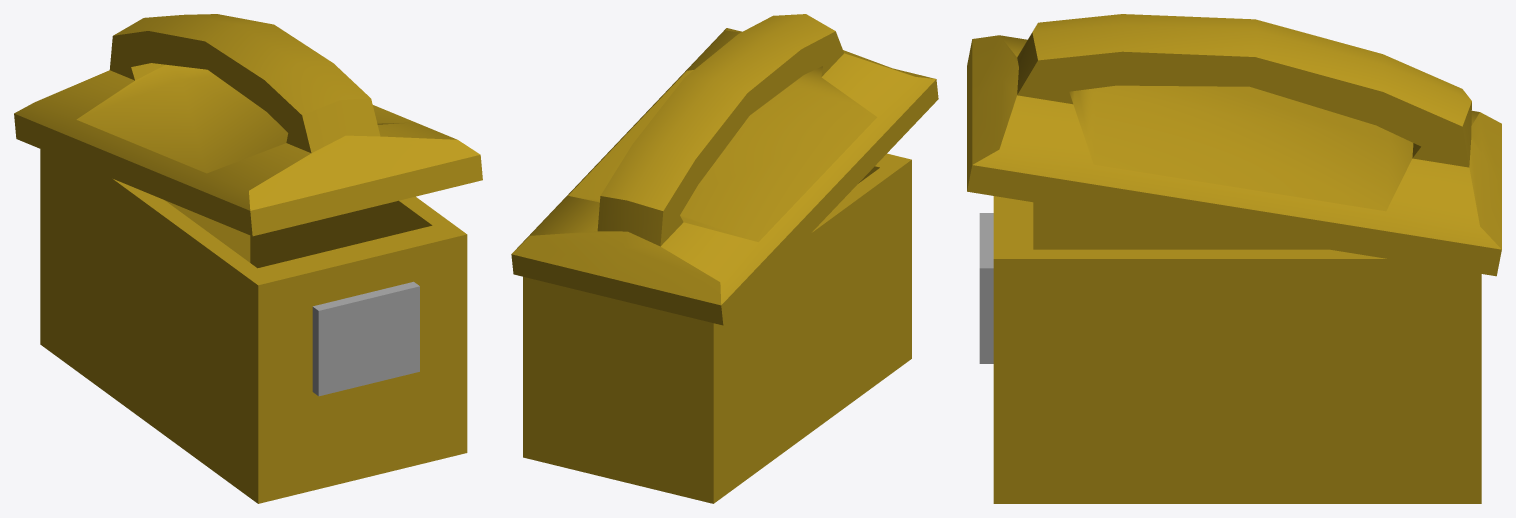
Rendered from SM_Ammo_Pack_Open.fbx.
The picture shows the model from 3 angles, left to right: view 1: azimuth 30°, elevation 25°; view 2: azimuth 150°, elevation 25°; view 3: azimuth 270°, elevation 25°; orthographic projection. The views are drawn at different scales.
Parts seen in each view (by area): view 1: polySurface1; view 2: polySurface1; view 3: polySurface1.
Part boxes in pixels (box(x1,y1,x2,y2)): polySurface1: box(14, 14, 482, 503); polySurface1: box(511, 14, 938, 503); polySurface1: box(967, 14, 1501, 503).
Size of the model in its own units: 28.66 by 44.37 by 51.42.
